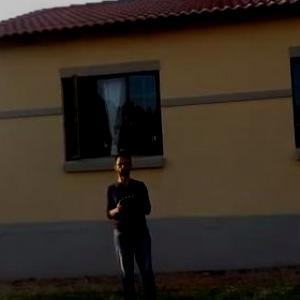follow: (102, 146, 163, 299)
